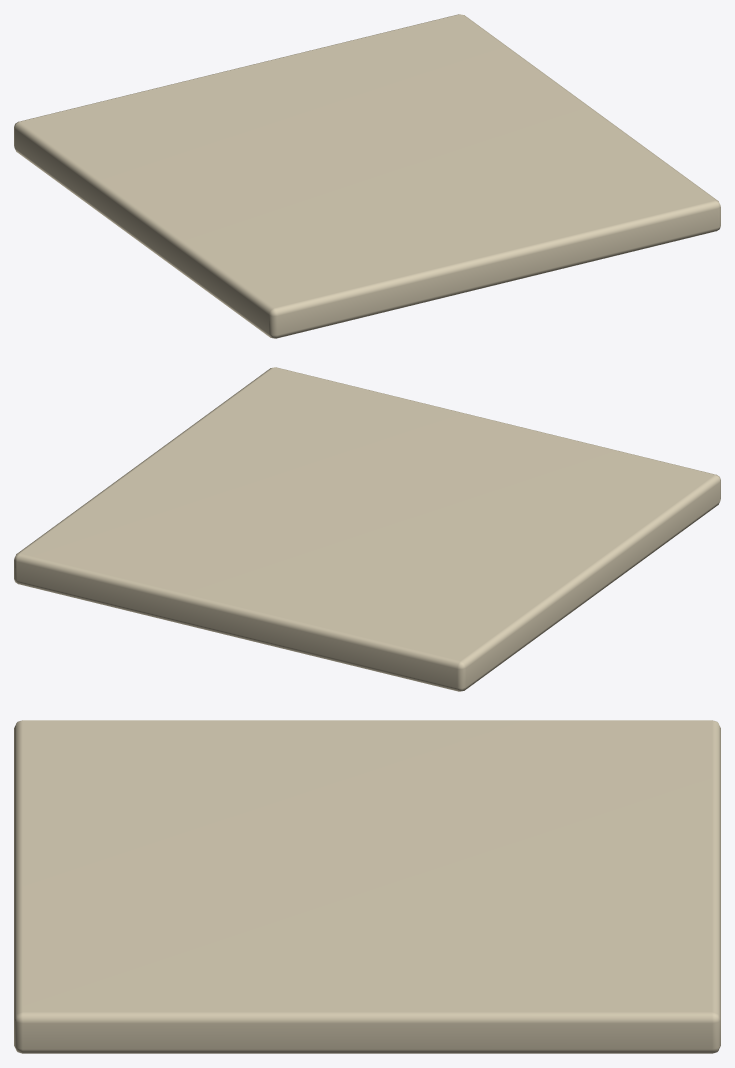
File: paving.glb
3 views of the same model, one above another, from view 1: azimuth 30°, elevation 25°; view 2: azimuth 150°, elevation 25°; view 3: azimuth 270°, elevation 25° (orthographic). The views are drawn at different scales.
Visible parts, largest first — view 1: Paving slab; view 2: Paving slab; view 3: Paving slab.
Boxes of the visible parts, x1,y1,x2,y2 form: Paving slab: [14, 14, 720, 338]; Paving slab: [14, 367, 720, 691]; Paving slab: [14, 720, 720, 1053].
Bounding box in the file's own units: 2 × 0.13 × 2.
